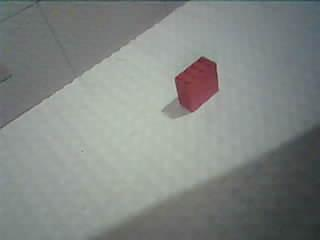lego: (172, 56, 220, 111)
